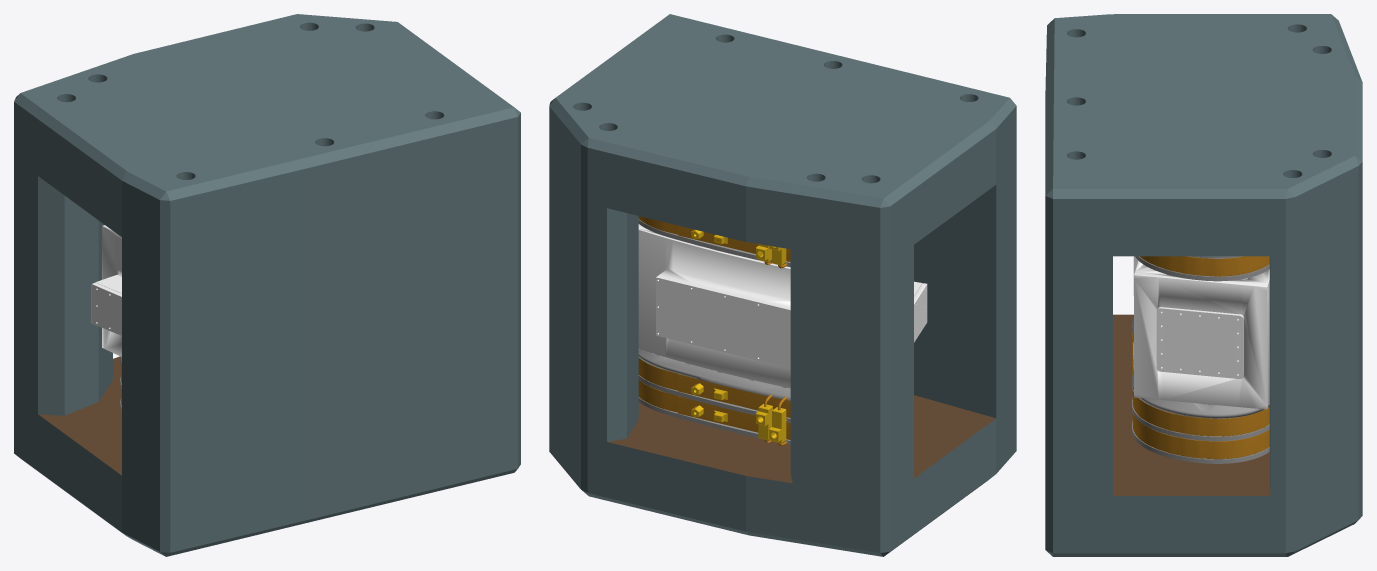
3 renders of one model, left to right at view 1: azimuth 30°, elevation 25°; view 2: azimuth 150°, elevation 25°; view 3: azimuth 270°, elevation 25°, orthographic. The views are drawn at different scales.
Parts seen in each view (by area): view 1: Base, Small Vac Box Plate; view 2: Base, Small Vac Box Plate, coils; view 3: Base, Small Vac Box Plate, coils.
Part boxes in pixels (bbox=[...]): Base: bbox=[14, 14, 520, 556]; Small Vac Box Plate: bbox=[91, 225, 121, 356]; Base: bbox=[549, 14, 1016, 556]; Small Vac Box Plate: bbox=[638, 224, 927, 388]; coils: bbox=[638, 216, 790, 446]; Base: bbox=[1045, 14, 1362, 556]; Small Vac Box Plate: bbox=[1133, 256, 1269, 409]; coils: bbox=[1131, 256, 1269, 463].
Bounding box in the file's own units: 6.33 × 5.99 × 4.68.
